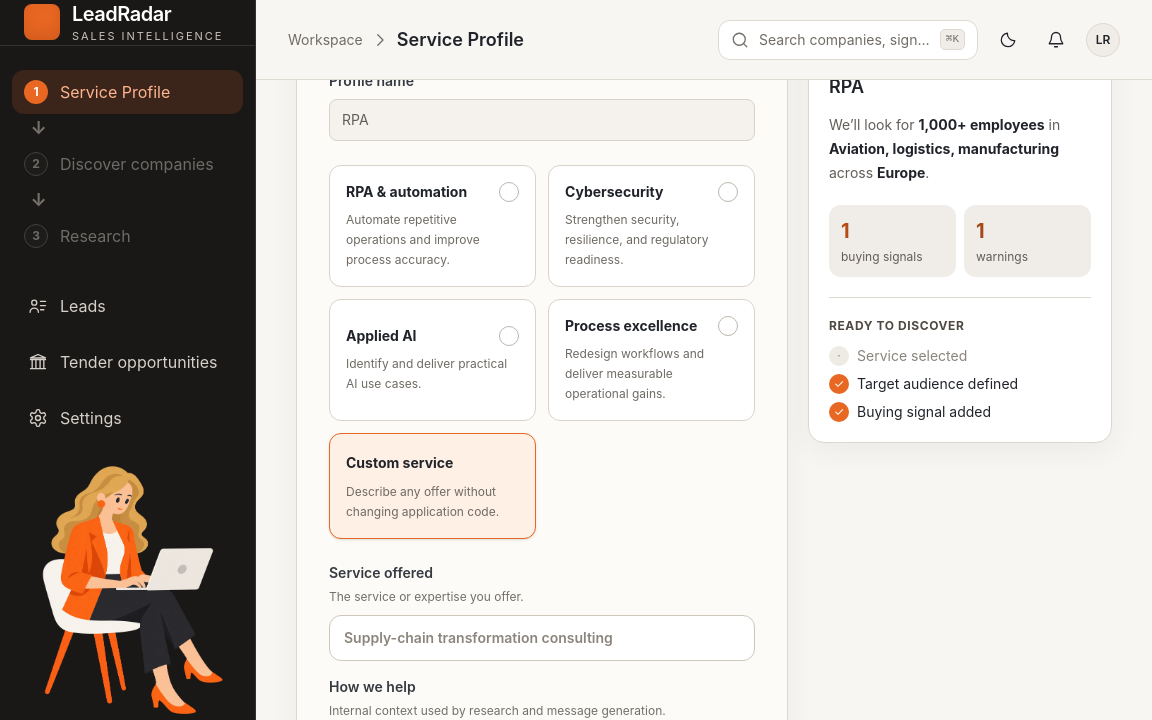
shows buying signal guidance from the first page
(page scrolled)
Step 1. Click the button "Process excellence" → (652, 360), box [548,299,755,421]
(page scrolled)
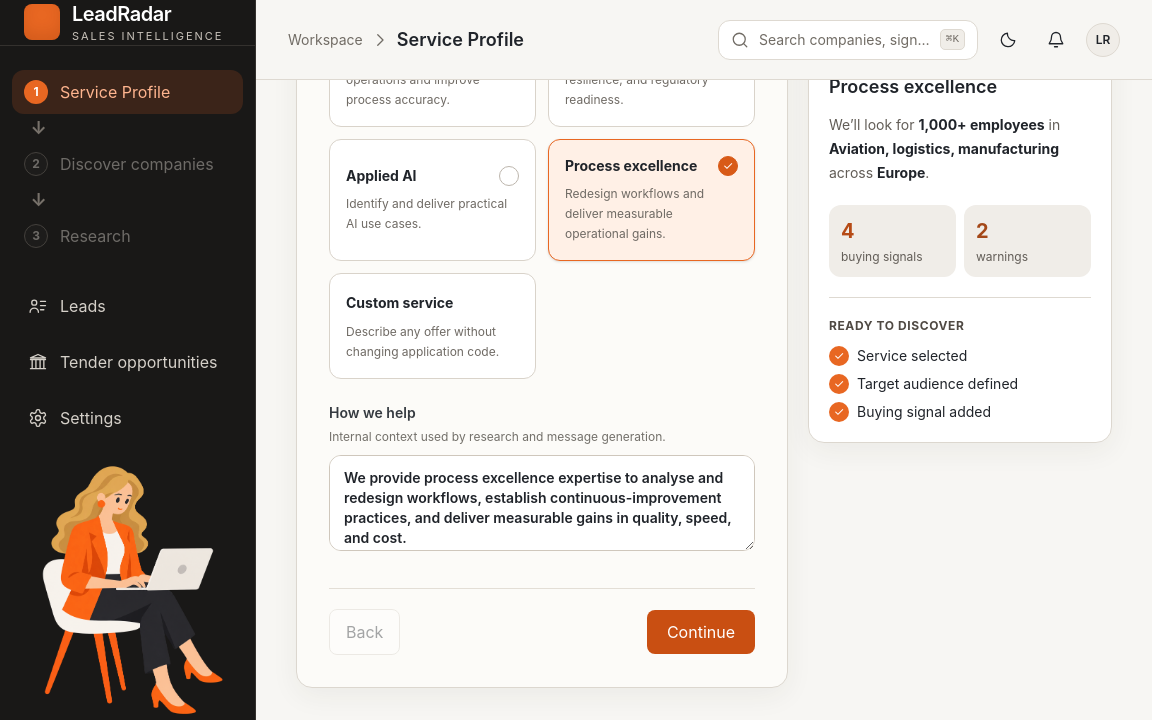
Step 2. Click the button "Continue" → (701, 632), box [647,610,755,654]
(page scrolled)
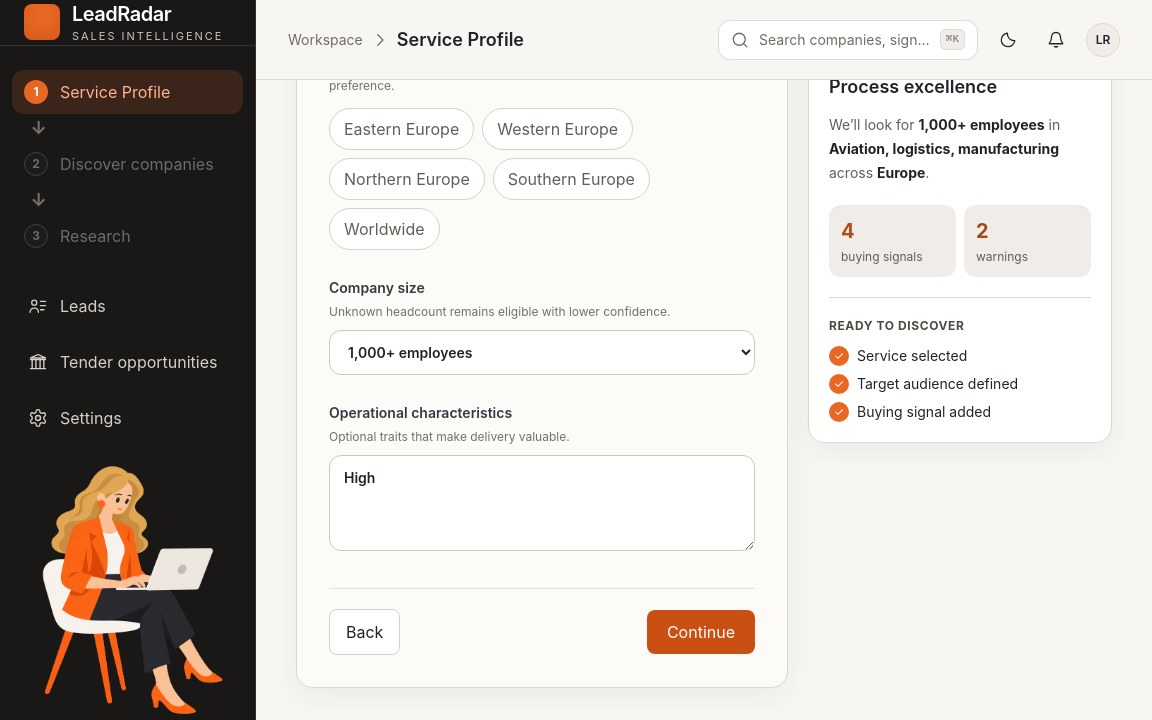
Step 3. Click the button "Continue" → (701, 632), box [647,610,755,654]
(page scrolled)
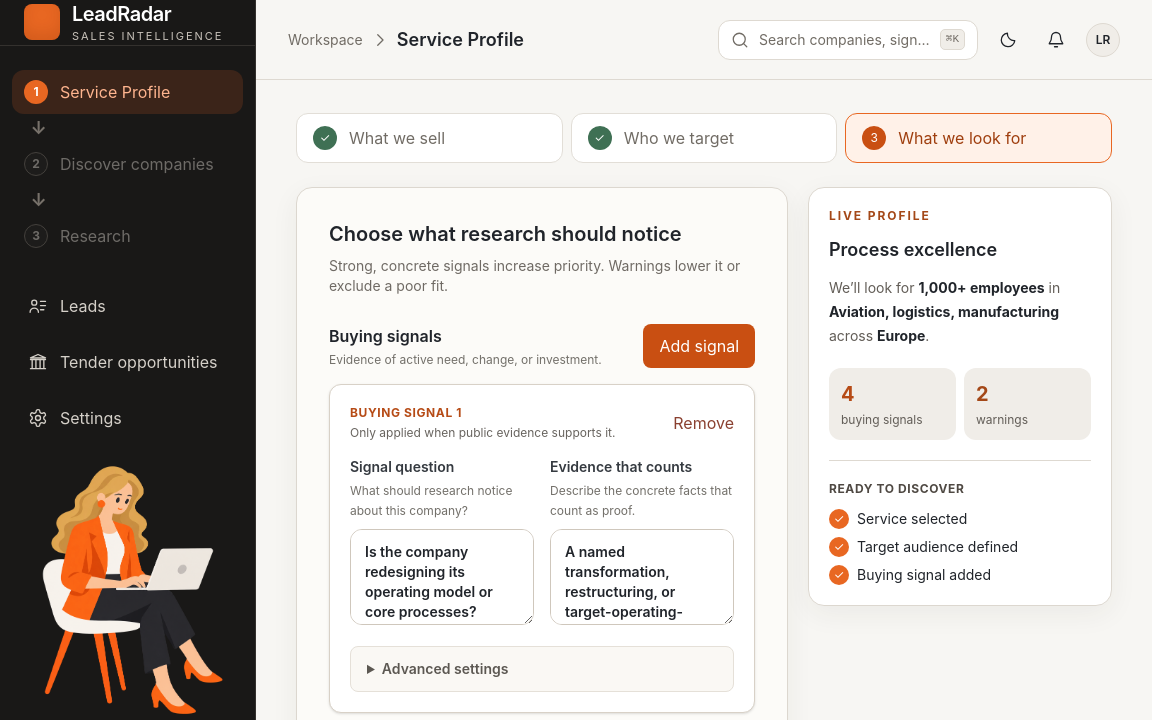
Expected: the text "Evidence of active need, change, or investment." is shown, [329,352,602,368]
